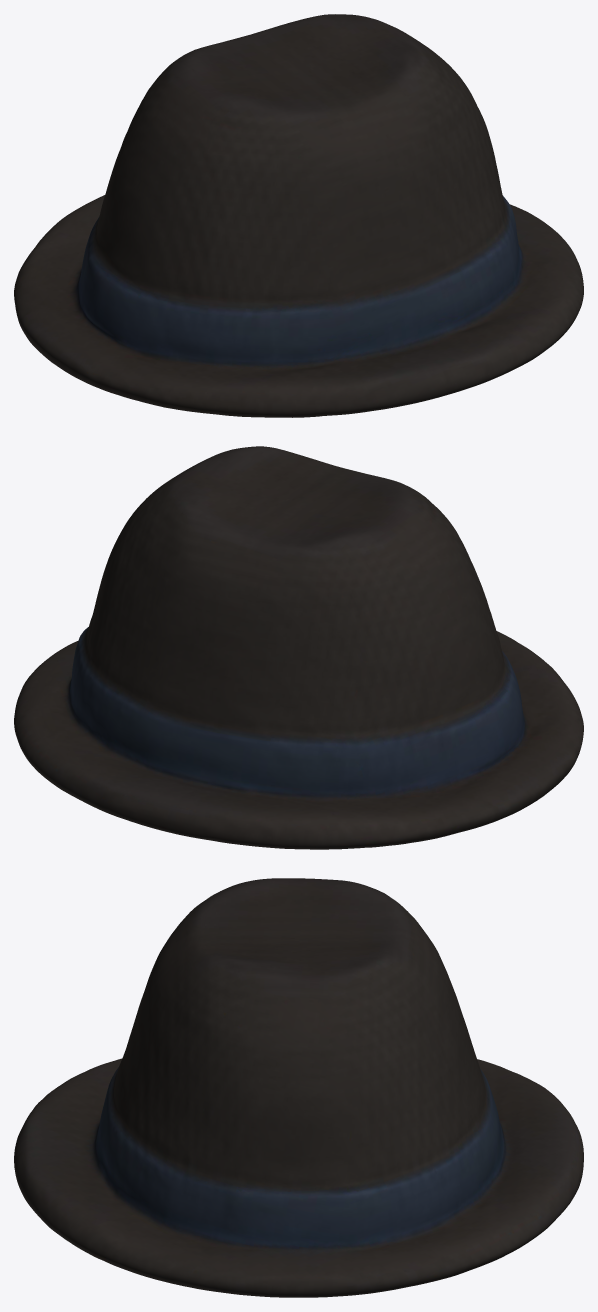
The model's file is 659a36cd5d0b_bf6a2f41013f_hats__3d_asset_0_gl.glb.
The picture shows the model from 3 angles, top to bottom: view 1: azimuth 30°, elevation 25°; view 2: azimuth 150°, elevation 25°; view 3: azimuth 270°, elevation 25°; orthographic projection. The views are drawn at different scales.
Parts seen in each view (by area): view 1: high_poly; view 2: high_poly; view 3: high_poly.
Boxes of the visible parts, bbox=[...] form: high_poly: bbox=[14, 14, 583, 417]; high_poly: bbox=[14, 446, 583, 849]; high_poly: bbox=[14, 878, 583, 1297].
Bounding box in the file's own units: 1 × 0.4759 × 0.9515.
1 material, 1 textured.
